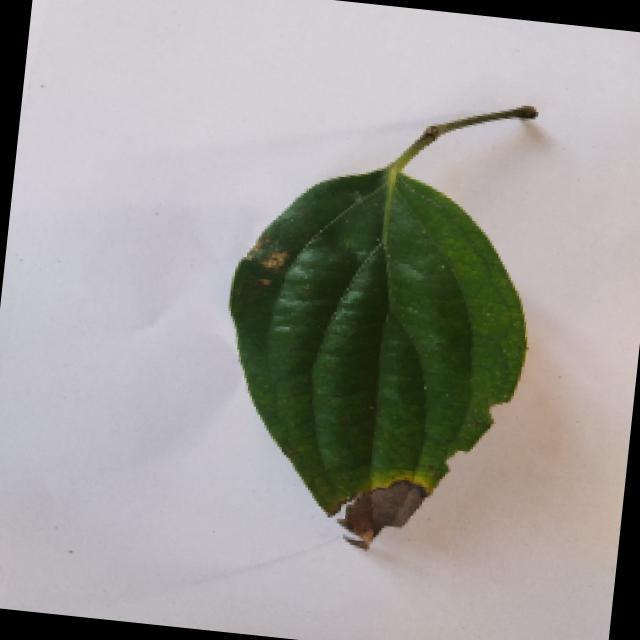footrot: (195, 76, 566, 565)
